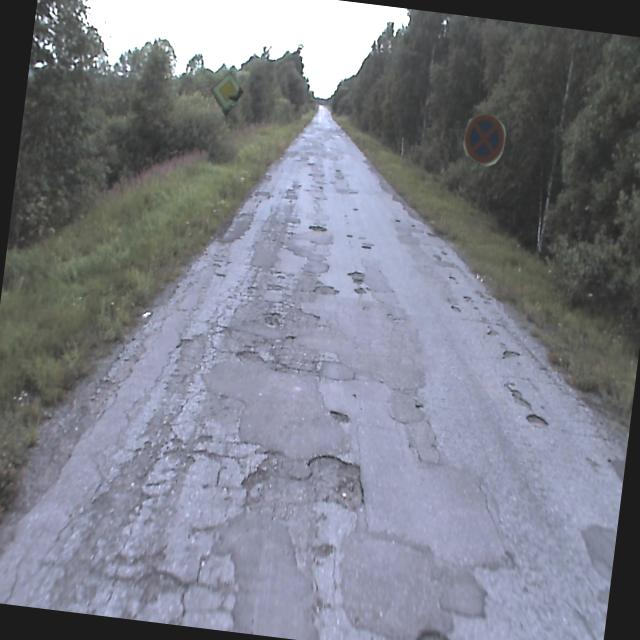road: (0, 104, 626, 640)
